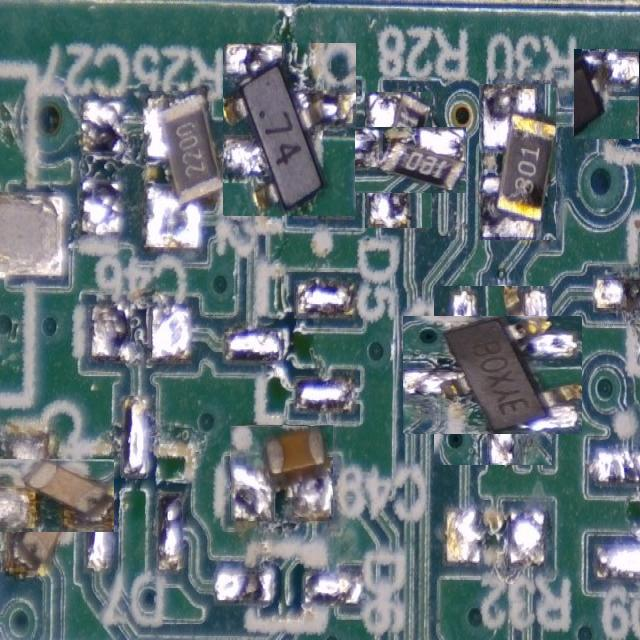Incorrect_installation: (225, 43, 355, 216), (404, 317, 581, 433), (144, 92, 224, 250), (478, 84, 556, 240), (230, 425, 333, 521), (331, 127, 465, 192), (0, 460, 114, 531), (574, 49, 640, 139)
